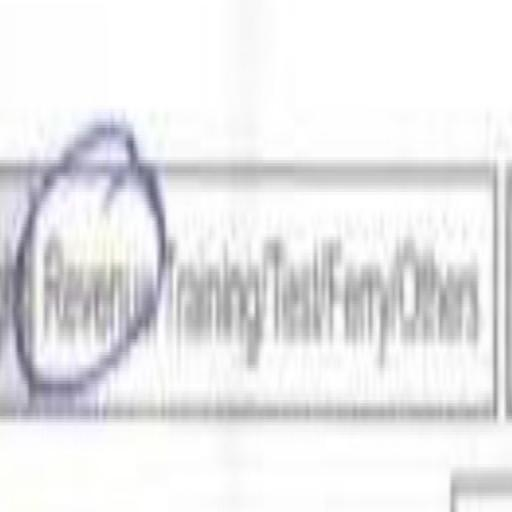check: (28, 122, 156, 455)
